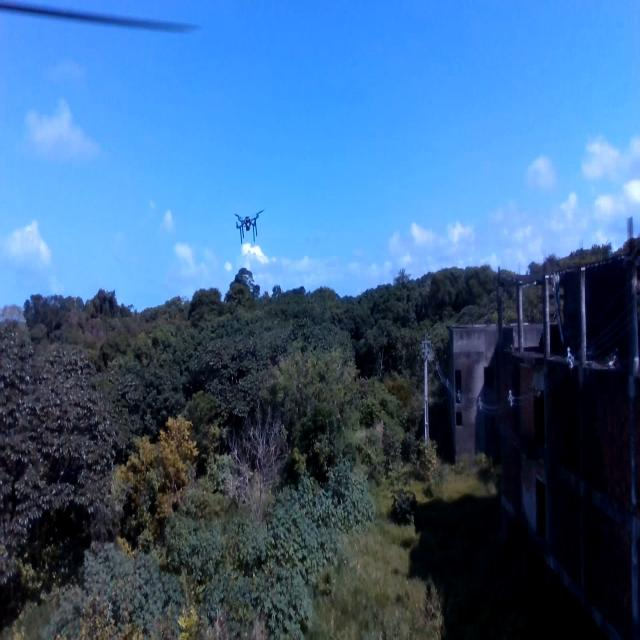-uav-: (225, 200, 272, 256)
